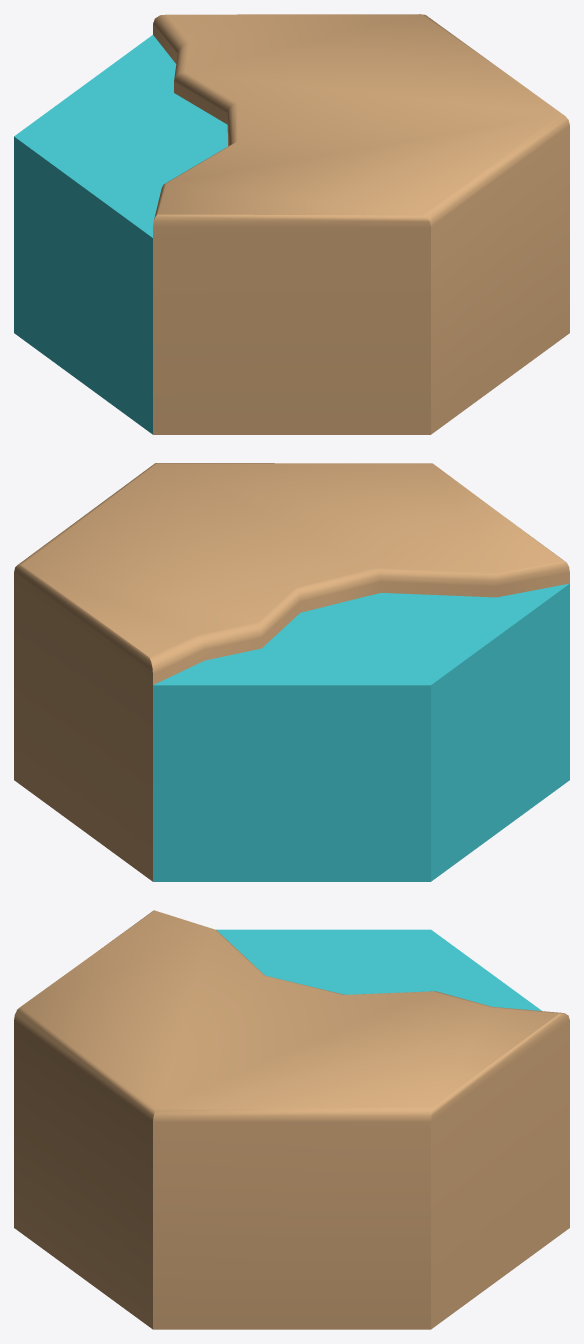
File: hex_sand_waterD.glb
3 views of the same model, one above another, from view 1: azimuth 30°, elevation 25°; view 2: azimuth 150°, elevation 25°; view 3: azimuth 270°, elevation 25° (orthographic).
Visible parts, largest first — view 1: hex_sand_waterD; view 2: hex_sand_waterD; view 3: hex_sand_waterD.
Boxes of the visible parts, x1,y1,x2,y2 form: hex_sand_waterD: (14, 14, 569, 434); hex_sand_waterD: (14, 463, 569, 881); hex_sand_waterD: (14, 910, 569, 1329).
Bounding box in the file's own units: 2 × 1 × 2.31.
